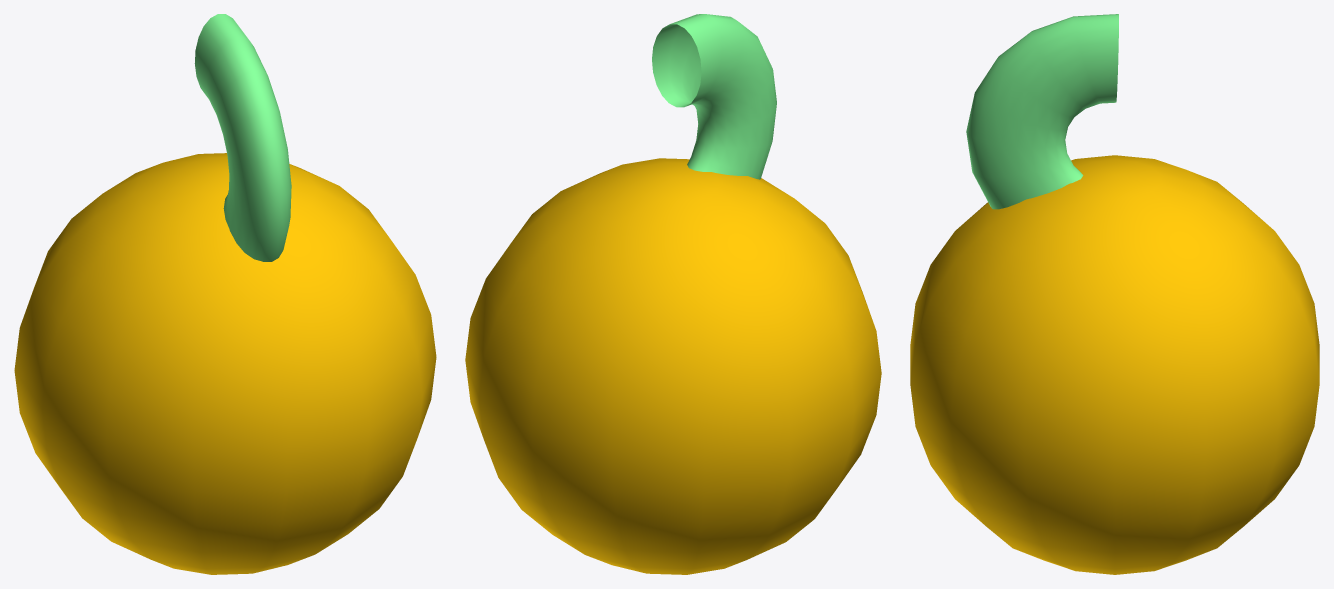
Rendered from orange.fbx.
3 views of the same model, side by side, from view 1: azimuth 30°, elevation 25°; view 2: azimuth 150°, elevation 25°; view 3: azimuth 270°, elevation 25° (orthographic).
Parts seen in each view (by area): view 1: pSphere1, pTorus1; view 2: pSphere1, pTorus1; view 3: pSphere1, pTorus1.
Part boxes in pixels (box(x1,y1,x2,y2)): pSphere1: box(14, 153, 436, 574); pTorus1: box(194, 14, 291, 261); pSphere1: box(465, 158, 881, 574); pTorus1: box(652, 14, 776, 179); pSphere1: box(910, 155, 1319, 574); pTorus1: box(966, 14, 1118, 209).
Size of the model in its own units: 4.17 by 5.89 by 4.07.
